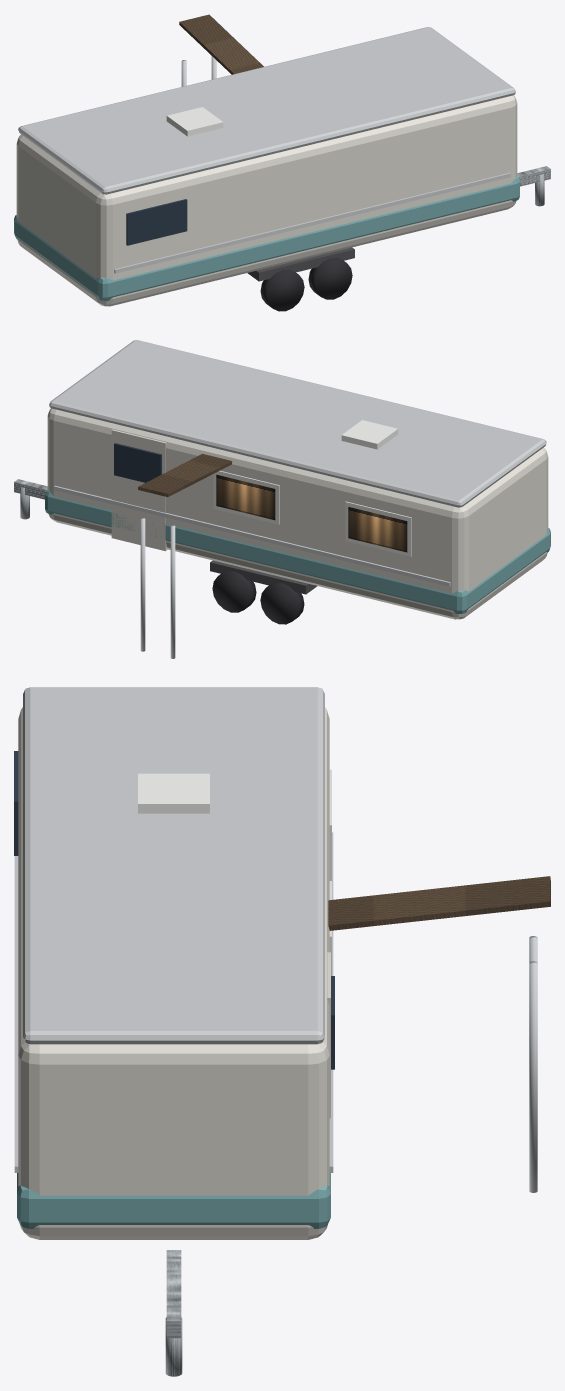
Rendered from WK_ARCH_Trailer_D_Camper.glb.
The picture shows the model from 3 angles, top to bottom: view 1: azimuth 30°, elevation 25°; view 2: azimuth 150°, elevation 25°; view 3: azimuth 270°, elevation 25°; orthographic projection. The views are drawn at different scales.
Parts seen in each view (by area): view 1: WK_ARCH_Trailer_D_Camper_P01, WK_ARCH_Trailer_D_Camper_P04, WK_ARCH_Trailer_D_Camper_P02, WK_ARCH_Trailer_D_Camper_P20, WK_ARCH_Trailer_D_Camper_P03, WK_ARCH_Trailer_D_Camper_P12, WK_ARCH_Trailer_D_Camper_P15, WK_ARCH_Trailer_D_Camper_P13, WK_ARCH_Trailer_D_Camper_P05, WK_ARCH_Trailer_D_Camper_P17, WK_ARCH_Trailer_D_Camper_P18; view 2: WK_ARCH_Trailer_D_Camper_P04, WK_ARCH_Trailer_D_Camper_P01, WK_ARCH_Trailer_D_Camper_P02, WK_ARCH_Trailer_D_Camper_P06, WK_ARCH_Trailer_D_Camper_P03, WK_ARCH_Trailer_D_Camper_P09, WK_ARCH_Trailer_D_Camper_P11, WK_ARCH_Trailer_D_Camper_P20, WK_ARCH_Trailer_D_Camper_P07, WK_ARCH_Trailer_D_Camper_P16, WK_ARCH_Trailer_D_Camper_P14, WK_ARCH_Trailer_D_Camper_P05 (+6 smaller); view 3: WK_ARCH_Trailer_D_Camper_P04, WK_ARCH_Trailer_D_Camper_P01, WK_ARCH_Trailer_D_Camper_P02, WK_ARCH_Trailer_D_Camper_P20, WK_ARCH_Trailer_D_Camper_P05, WK_ARCH_Trailer_D_Camper_P03, WK_ARCH_Trailer_D_Camper_P22, WK_ARCH_Trailer_D_Camper_P18.
Boxes of the visible parts, left/top/right/bottom form: WK_ARCH_Trailer_D_Camper_P01: left=16, top=95, right=517, bottom=306; WK_ARCH_Trailer_D_Camper_P04: left=18, top=27, right=515, bottom=194; WK_ARCH_Trailer_D_Camper_P02: left=14, top=176, right=519, bottom=300; WK_ARCH_Trailer_D_Camper_P20: left=179, top=14, right=263, bottom=74; WK_ARCH_Trailer_D_Camper_P03: left=114, top=172, right=510, bottom=273; WK_ARCH_Trailer_D_Camper_P12: left=126, top=199, right=187, bottom=245; WK_ARCH_Trailer_D_Camper_P15: left=308, top=258, right=352, bottom=299; WK_ARCH_Trailer_D_Camper_P13: left=260, top=269, right=304, bottom=311; WK_ARCH_Trailer_D_Camper_P05: left=166, top=107, right=223, bottom=136; WK_ARCH_Trailer_D_Camper_P17: left=247, top=247, right=354, bottom=281; WK_ARCH_Trailer_D_Camper_P18: left=517, top=166, right=550, bottom=186; WK_ARCH_Trailer_D_Camper_P04: left=49, top=340, right=546, bottom=507; WK_ARCH_Trailer_D_Camper_P01: left=47, top=408, right=548, bottom=619; WK_ARCH_Trailer_D_Camper_P02: left=45, top=489, right=550, bottom=614; WK_ARCH_Trailer_D_Camper_P06: left=111, top=429, right=167, bottom=551; WK_ARCH_Trailer_D_Camper_P03: left=54, top=485, right=450, bottom=586; WK_ARCH_Trailer_D_Camper_P09: left=348, top=507, right=407, bottom=552; WK_ARCH_Trailer_D_Camper_P11: left=216, top=474, right=275, bottom=520; WK_ARCH_Trailer_D_Camper_P20: left=138, top=454, right=232, bottom=496; WK_ARCH_Trailer_D_Camper_P07: left=114, top=443, right=161, bottom=482; WK_ARCH_Trailer_D_Camper_P16: left=212, top=571, right=256, bottom=612; WK_ARCH_Trailer_D_Camper_P14: left=260, top=583, right=304, bottom=624; WK_ARCH_Trailer_D_Camper_P05: left=341, top=420, right=398, bottom=449; WK_ARCH_Trailer_D_Camper_P04: left=23, top=687, right=324, bottom=1044; WK_ARCH_Trailer_D_Camper_P01: left=18, top=707, right=329, bottom=1239; WK_ARCH_Trailer_D_Camper_P02: left=17, top=1173, right=330, bottom=1228; WK_ARCH_Trailer_D_Camper_P20: left=328, top=876, right=550, bottom=930; WK_ARCH_Trailer_D_Camper_P05: left=138, top=773, right=209, bottom=813; WK_ARCH_Trailer_D_Camper_P03: left=14, top=832, right=333, bottom=1172; WK_ARCH_Trailer_D_Camper_P22: left=529, top=961, right=537, bottom=1192; WK_ARCH_Trailer_D_Camper_P18: left=166, top=1250, right=181, bottom=1338.
Bounding box in the file's own units: 8.21 × 2.75 × 4.48.
11 materials, 3 textured.
